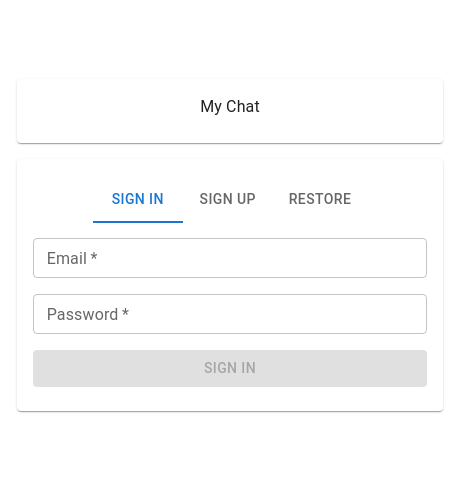
Test: SignUpForm › Invalid email
Click the tab with test id "tab_btn-2".
click(228, 199)  # box x1=183 y1=175 x2=273 y2=223
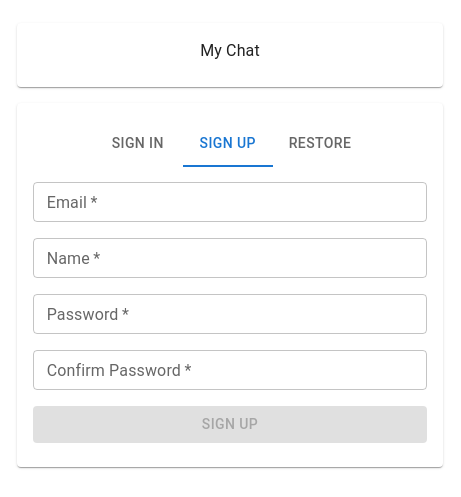
expect the form with test id "sign-up-form" is shown: met, box x1=33 y1=182 x2=427 y2=443
Type "test" into the field with test id "email-input".
click(230, 202); type("test")  # box x1=33 y1=182 x2=427 y2=222
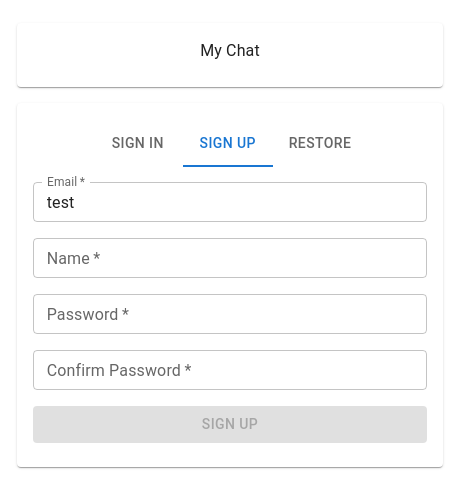
Leave the field with test id "email-input", box x1=33 y1=182 x2=427 y2=222
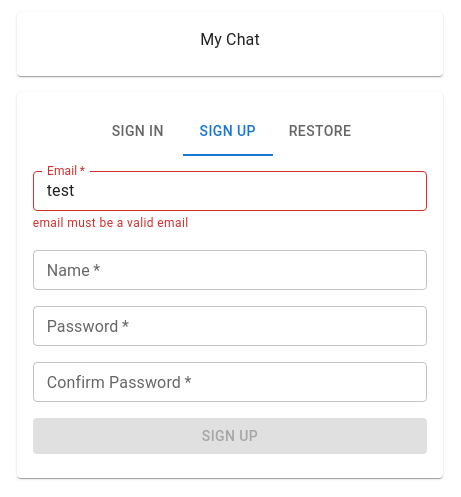
expect the button with test id "submit-btn" is disabled: met, box x1=33 y1=418 x2=427 y2=454
expect the text "email must be a valid email" is shown: met, box x1=33 y1=216 x2=189 y2=230
